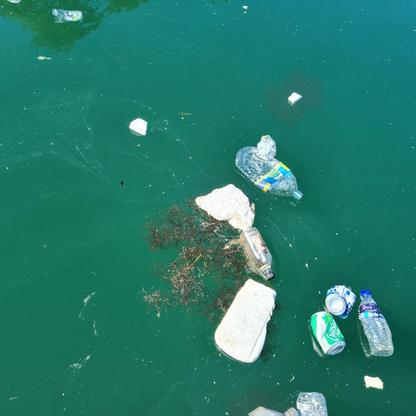can: (310, 312, 347, 354), (324, 285, 357, 317)
foam: (215, 278, 275, 361), (193, 183, 257, 230), (362, 373, 384, 393), (129, 117, 149, 135), (287, 92, 303, 105)
plastic bottle: (237, 145, 302, 199), (359, 291, 393, 357), (242, 228, 277, 281)
